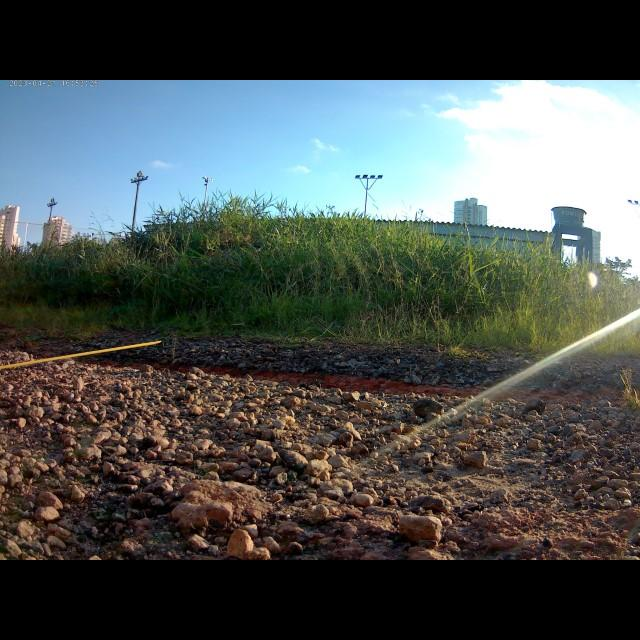ravina: (2, 341, 636, 409)
